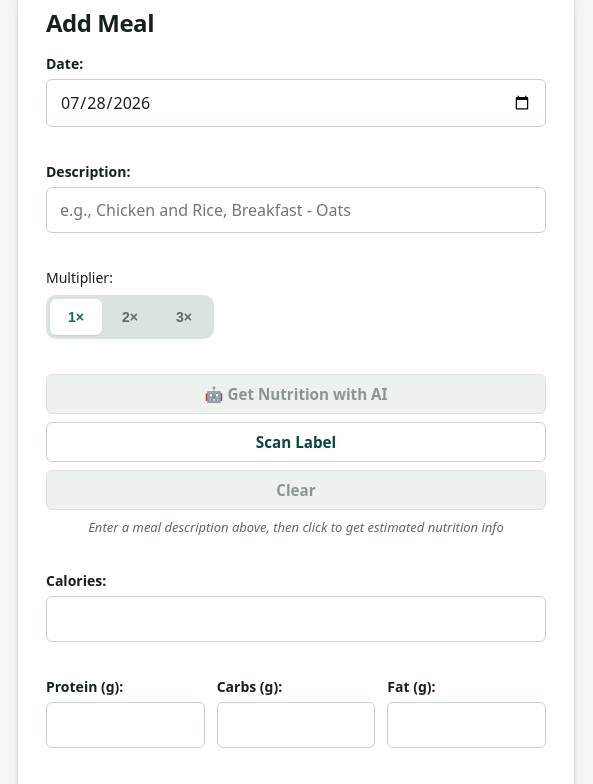
MealForm › validates numeric fields are positive
This screenshot has width=593, height=784.
// Fill in description (required)
Type "Test Meal" into the field labelled "Description:" at [296, 210], box [46,187,546,233]
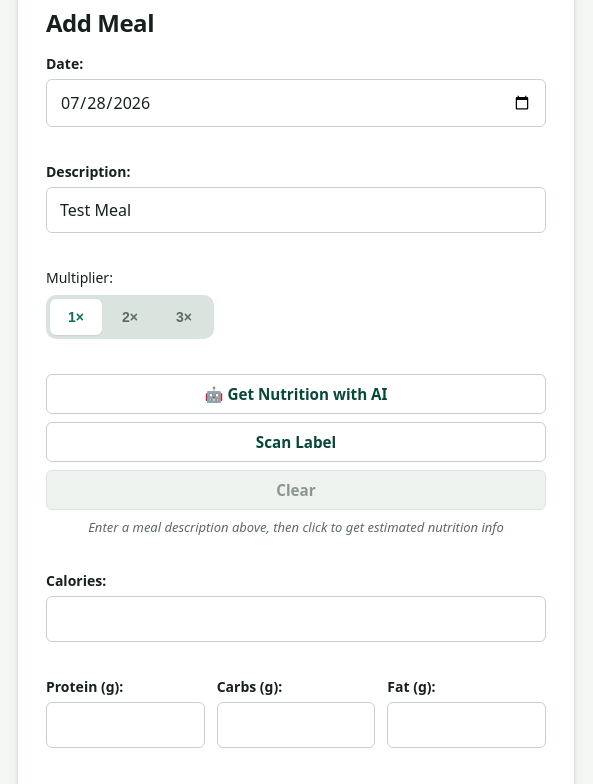
// Fill in negative values
Type "-100" into the number field labelled "Calories:" at [296, 619], box [46,596,546,642]
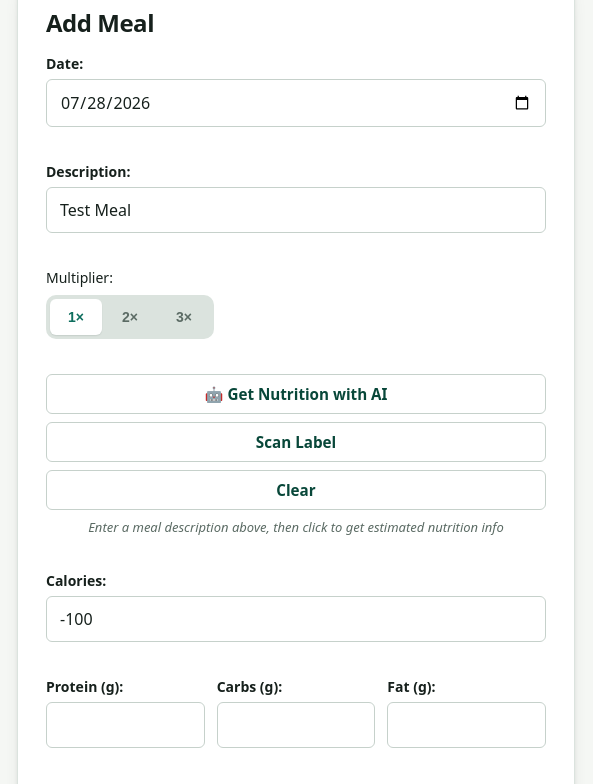
Type "-5" into the number field labelled "Protein (g):" at [125, 725], box [46,702,205,748]
(page scrolled)
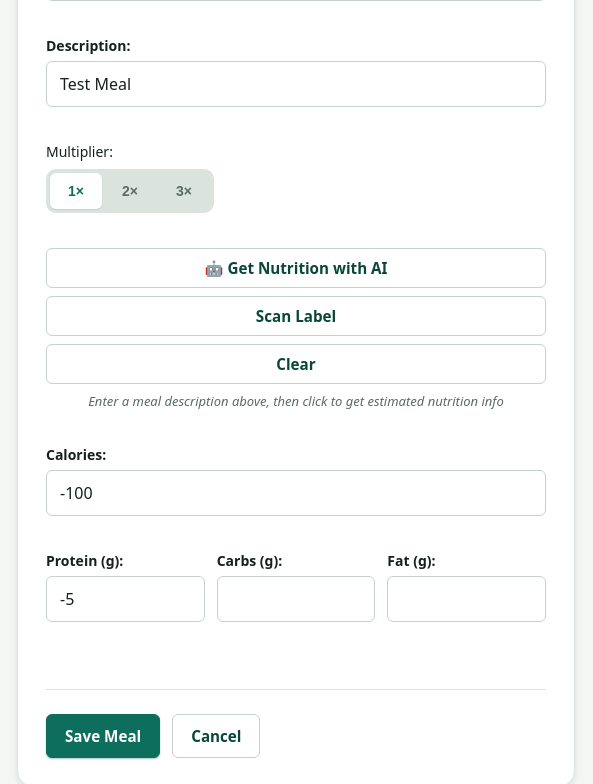
// Submit the form
Click the button "Save Meal" at [103, 736], box [46,714,160,758]
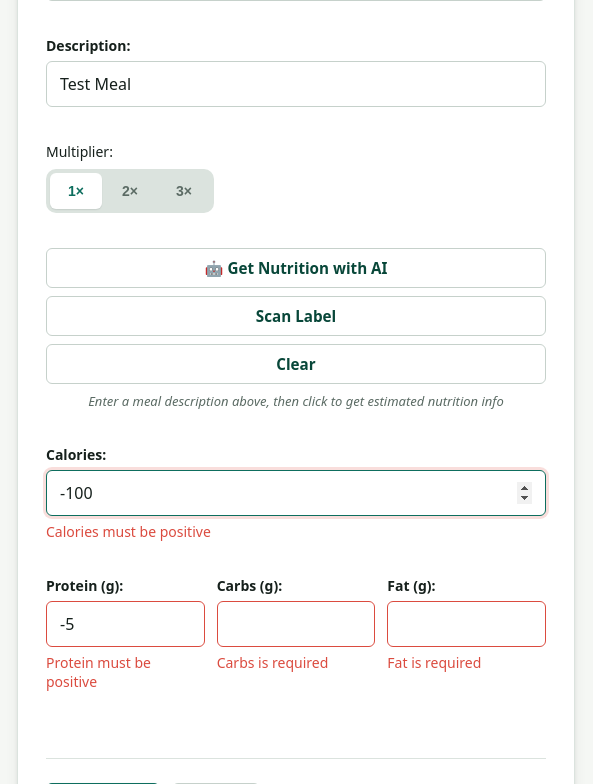
expect the text "Calories must be positive" is shown: met, box [46,522,211,541]
expect the text "Protein must be positive" is shown: met, box [46,653,151,691]
